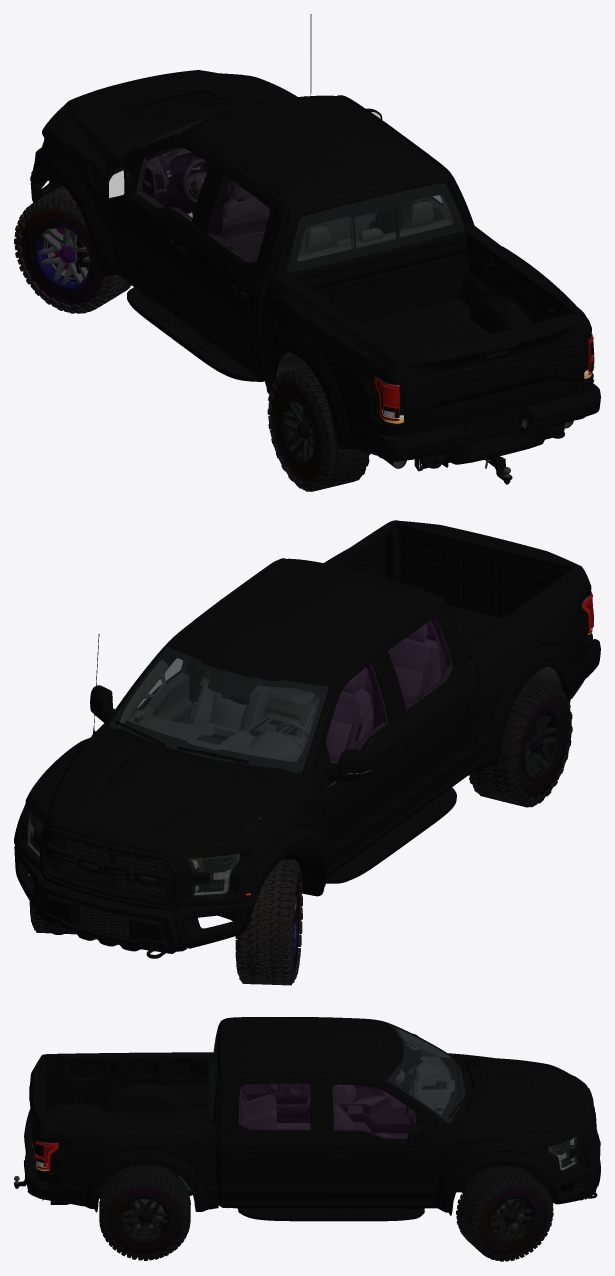
Rendered from ford-f150-raptor-mobile.glb.
The picture shows the model from 3 angles, top to bottom: view 1: azimuth 30°, elevation 25°; view 2: azimuth 150°, elevation 25°; view 3: azimuth 270°, elevation 25°; orthographic projection. The views are drawn at different scales.
Parts seen in each view (by area): view 1: bodyshell1_1_17_64, Object_56, Object_61, chassis_2_46_112, door_dside_r_31_60_137, windscreen_r_55_216_379, Object_42, door_pside_f_23_74_165, Object_39, Object_12, window_lr_32_205_361, misc_skirt_18_137_256 (+4 smaller); view 2: bodyshell1_1_17_64, Object_61, windscreen_56_213_374, chassis_2_46_112, door_pside_f_23_74_165, Object_54, door_dside_r_31_60_137, bumper_f_20_28_78, Object_39, Object_42, window_lr_32_205_361, Object_12 (+4 smaller); view 3: bodyshell1_1_17_64, door_pside_f_23_74_165, door_pside_r_26_84_184, Object_61, chassis_2_46_112, [wheel_59_2_37, Object_47, windscreen_56_213_374, window_rf_25_207_364, window_rr_27_209_367, misc_skirt_18_137_256, door_dside_r_31_60_137 (+7 smaller).
Part boxes in pixels (x1,y1,x2,y2): bodyshell1_1_17_64: [30, 14, 600, 471]; Object_56: [401, 318, 584, 436]; Object_61: [46, 70, 291, 152]; chassis_2_46_112: [66, 130, 573, 468]; door_dside_r_31_60_137: [188, 164, 279, 377]; windscreen_r_55_216_379: [286, 183, 465, 272]; Object_42: [14, 185, 131, 313]; door_pside_f_23_74_165: [104, 108, 382, 330]; Object_39: [267, 366, 370, 491]; Object_12: [138, 147, 209, 220]; window_lr_32_205_361: [208, 176, 269, 262]; misc_skirt_18_137_256: [127, 287, 263, 381]; bodyshell1_1_17_64: [14, 520, 600, 912]; Object_61: [28, 732, 293, 859]; windscreen_56_213_374: [109, 647, 329, 773]; chassis_2_46_112: [106, 620, 447, 845]; door_pside_f_23_74_165: [90, 650, 406, 876]; Object_54: [394, 520, 579, 618]; door_dside_r_31_60_137: [378, 607, 474, 822]; bumper_f_20_28_78: [14, 845, 255, 958]; Object_39: [469, 679, 572, 807]; Object_42: [235, 859, 302, 985]; window_lr_32_205_361: [388, 619, 452, 709]; Object_12: [325, 665, 386, 763]; bodyshell1_1_17_64: [23, 1017, 597, 1215]; door_pside_f_23_74_165: [321, 1033, 440, 1208]; door_pside_r_26_84_184: [225, 1078, 323, 1208]; Object_61: [462, 1054, 591, 1143]; chassis_2_46_112: [50, 1028, 545, 1204]; [wheel_59_2_37: [99, 1165, 190, 1260]; Object_47: [456, 1166, 553, 1261]; windscreen_56_213_374: [387, 1024, 468, 1123]; window_rf_25_207_364: [332, 1084, 416, 1139]; window_rr_27_209_367: [239, 1083, 310, 1130]; misc_skirt_18_137_256: [237, 1208, 424, 1221]; door_dside_r_31_60_137: [241, 1072, 310, 1118].
Size of what is drawn, in the model's own units: 2.55 by 2.26 by 6.11.
Materials: 40 (23 with a texture image).
